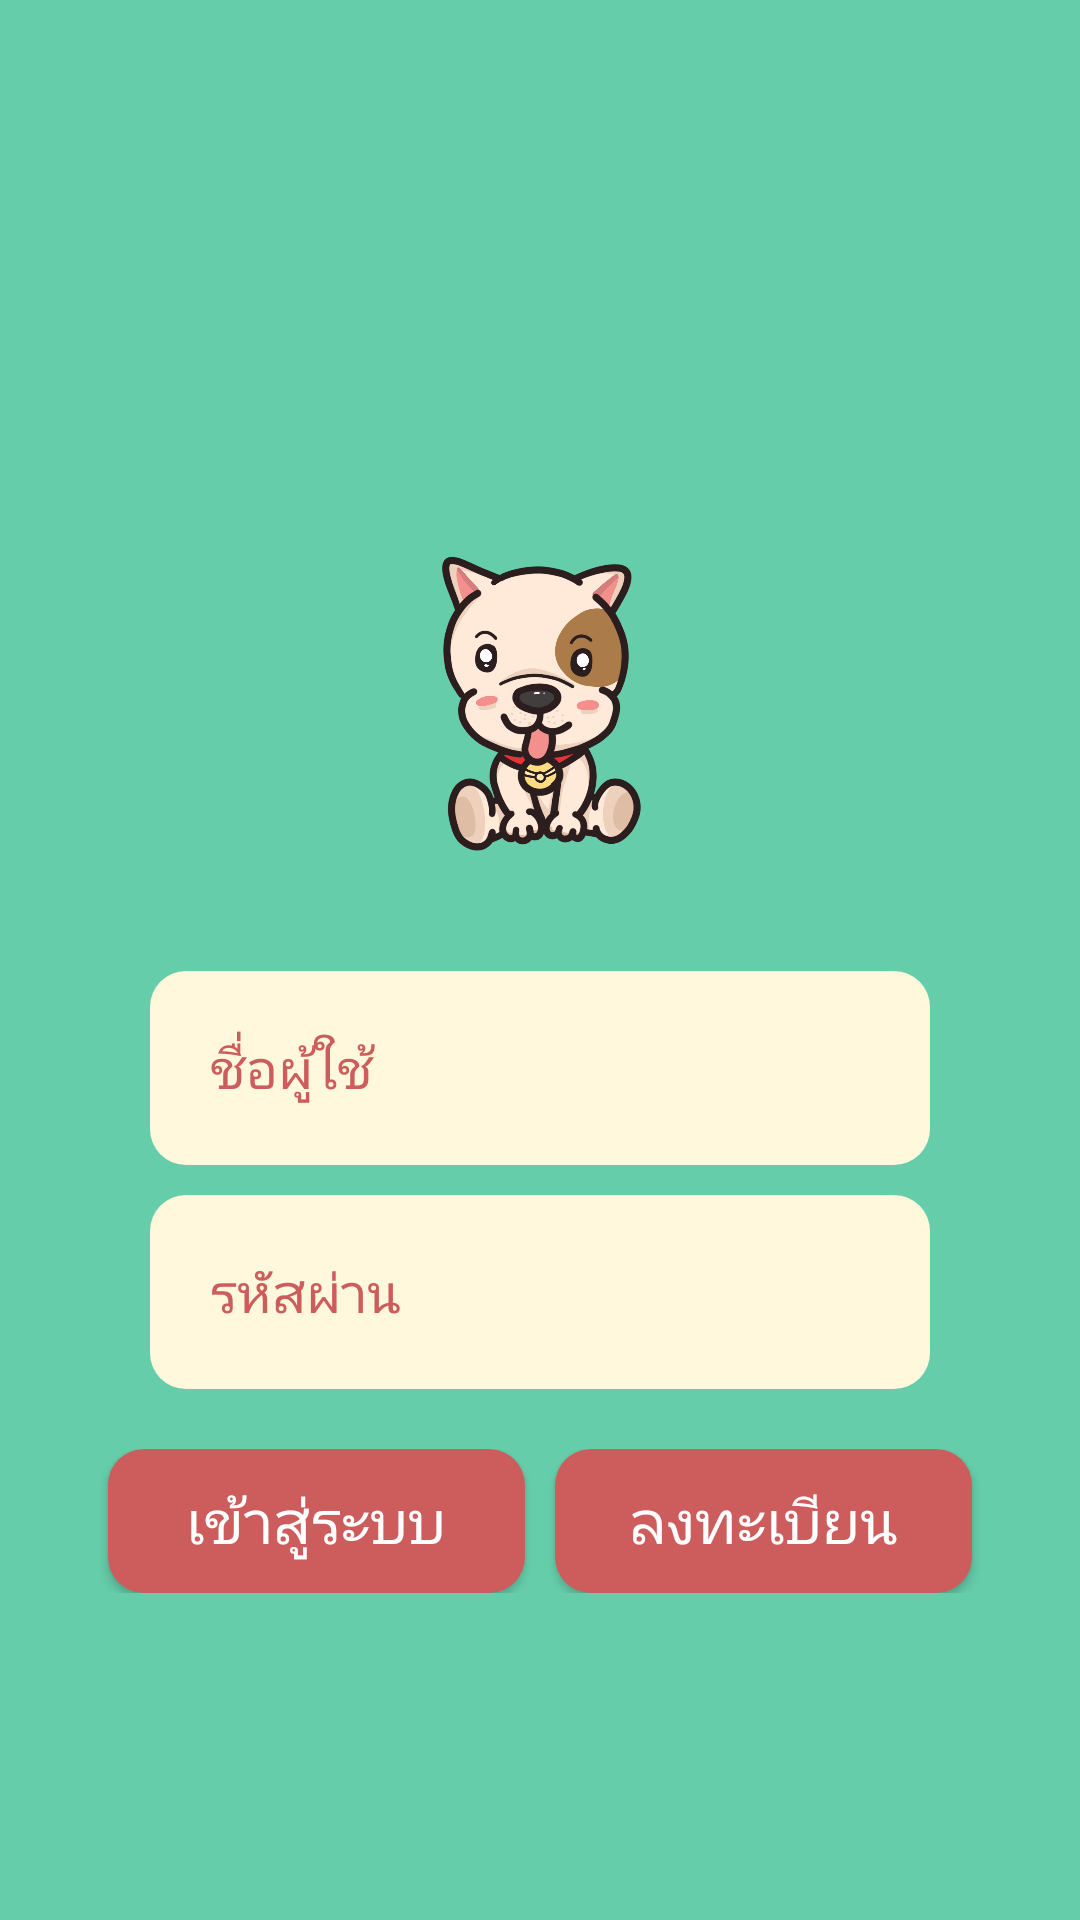

Icon click points for this 1080px x 1920px phone screenshot, format point (x, y):
iconpet: point (541, 704)
